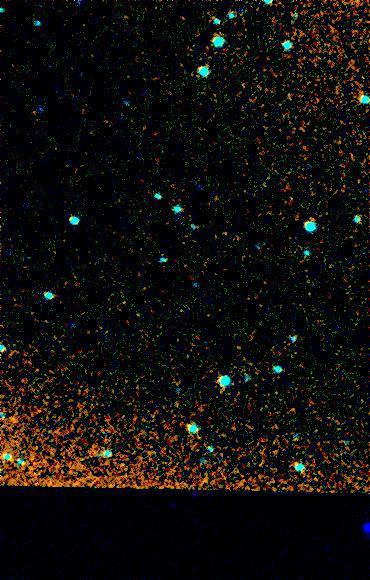star: (0, 406, 29, 436)
